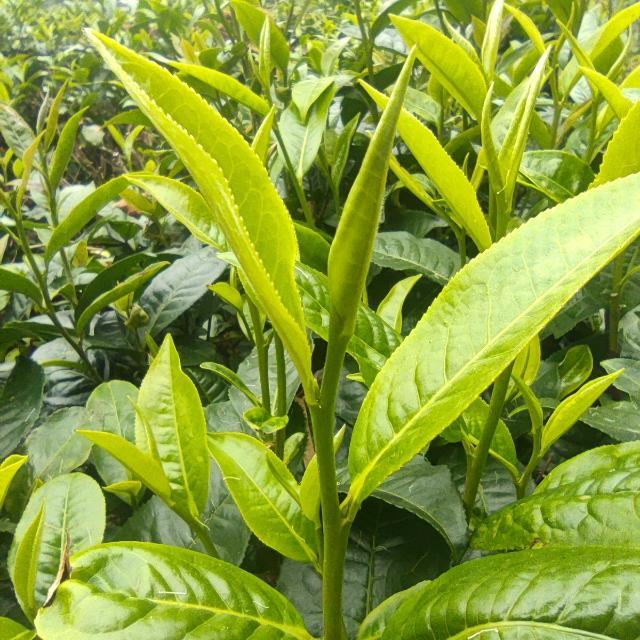Stem: (311, 401, 334, 429), (529, 453, 542, 465), (456, 234, 466, 243), (15, 216, 23, 225), (273, 128, 280, 137), (49, 197, 55, 205)
